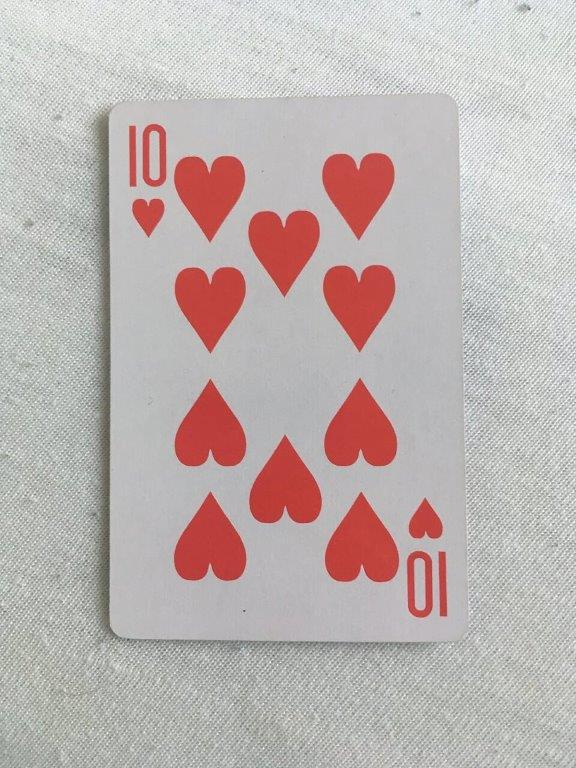10H: (104, 90, 473, 647)
